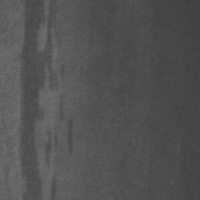inclusion: (18, 1, 65, 199)
